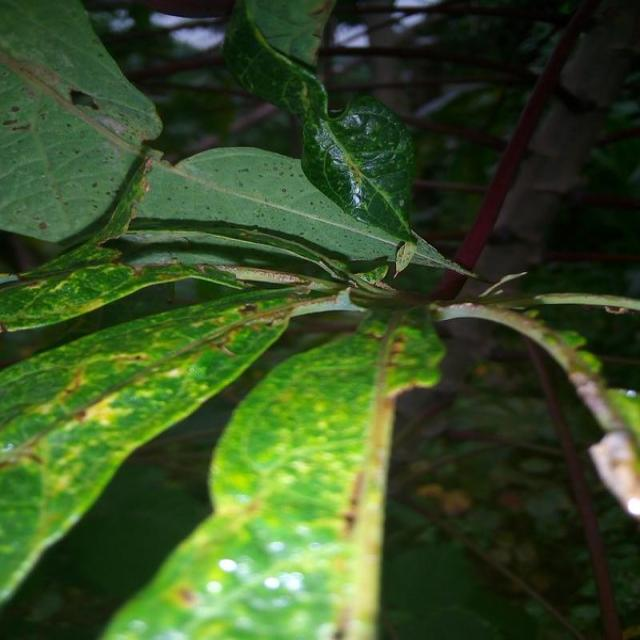cassava leaf: (99, 301, 446, 638), (0, 283, 300, 607), (0, 0, 163, 255), (116, 144, 407, 277)
